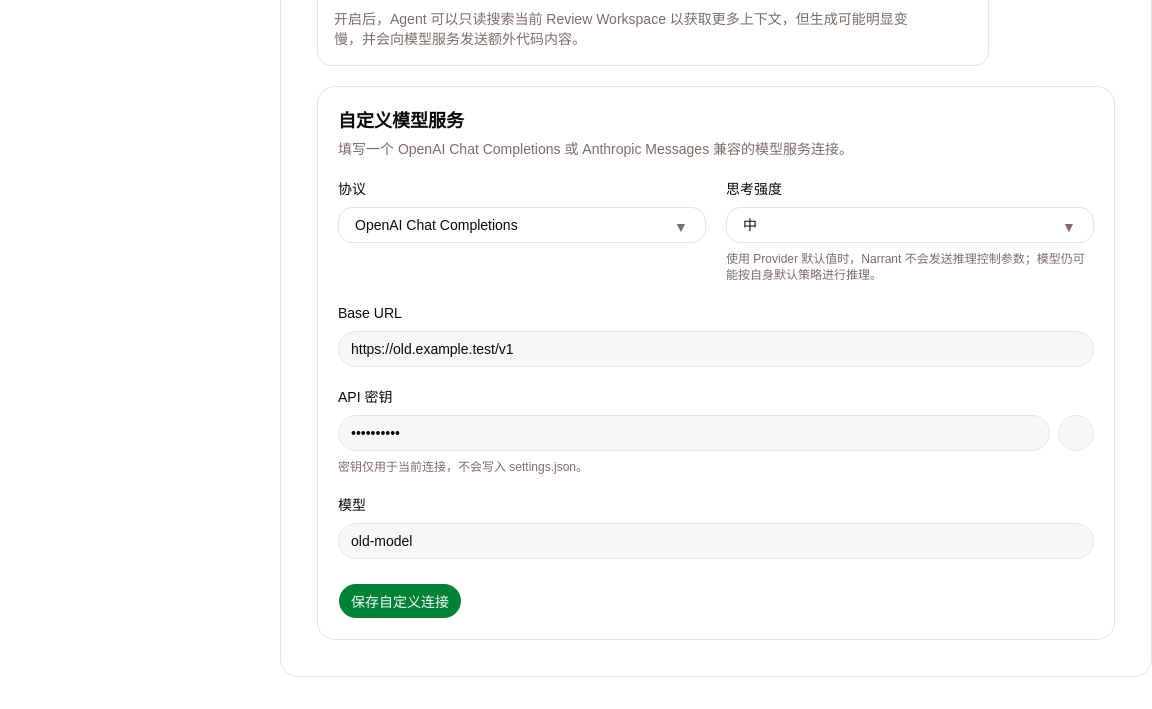
Settings application-shell UI › Custom 保存失败时保留表单输入并显示清晰错误
(page scrolled)
Expected: the form with test id "custom-provider-editor" is shown, [317, 86, 1115, 640]
Replace the text in the field labelled "Base URL" with "https://edited.example.test/v1": (716, 349) [338, 331, 1094, 367]
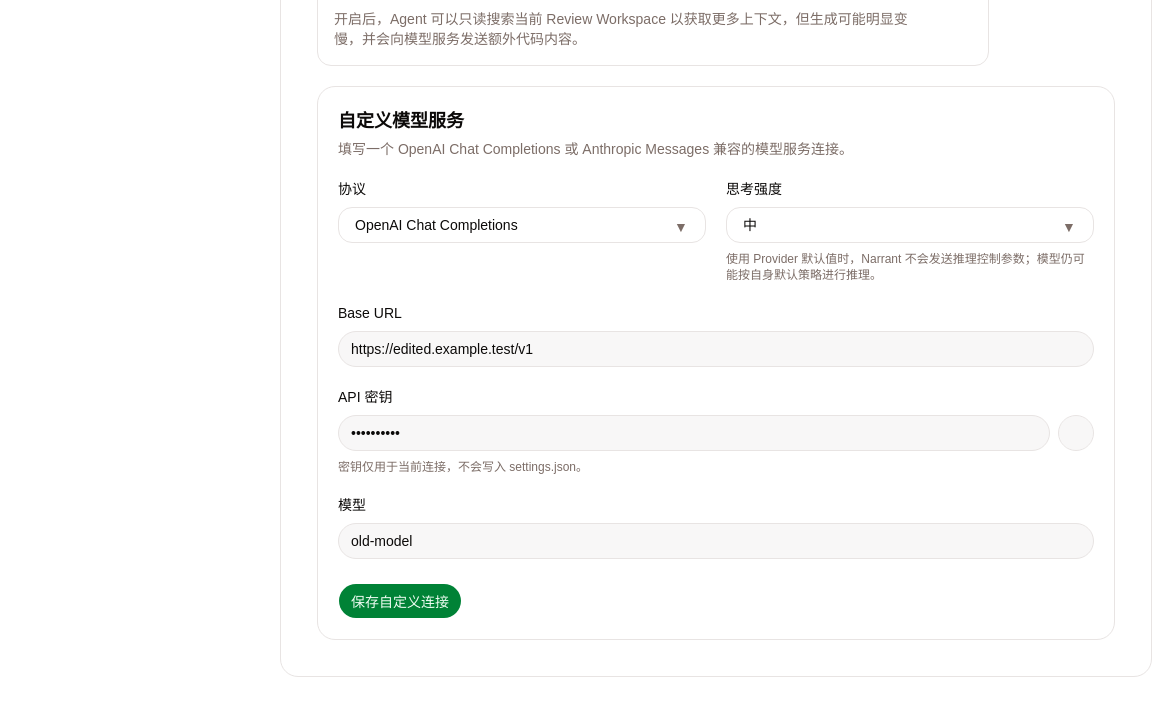
Replace the text in the field labelled "模型" with "edited-model": (716, 541) [338, 523, 1094, 559]
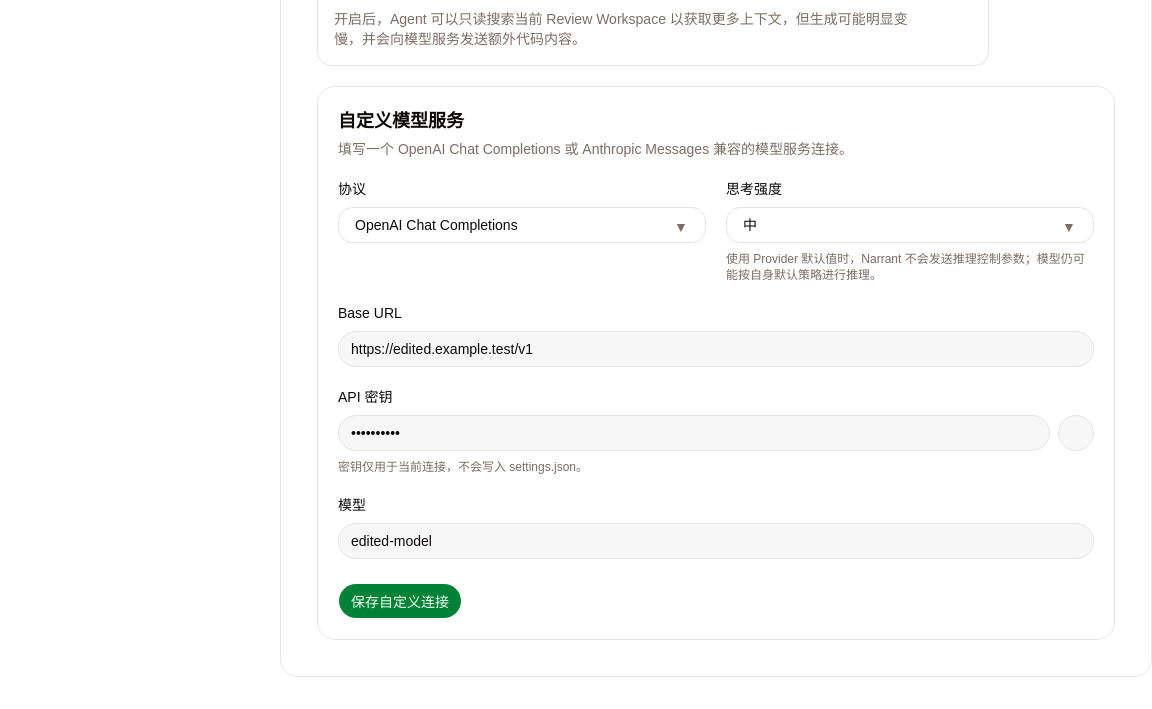
Click the button "保存自定义连接": (400, 601) [338, 583, 462, 619]
(page scrolled)
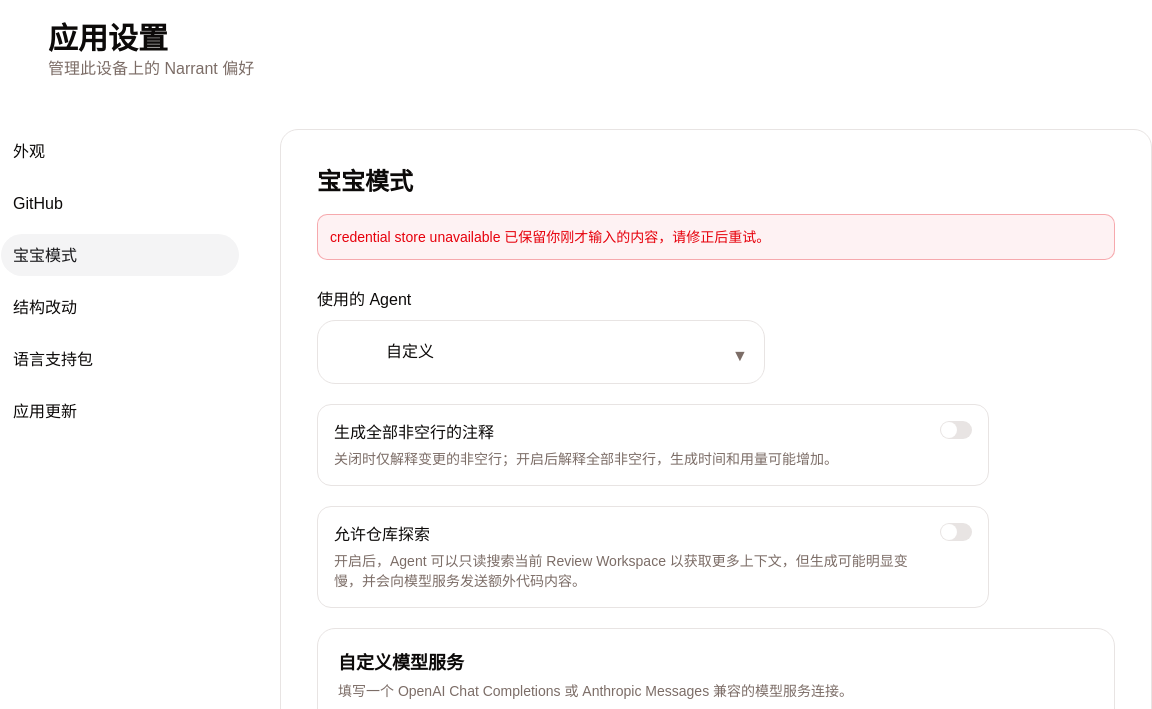
Expected: the message shows "credential store unavailable", [330, 229, 770, 245]
Expected: the message reads "credential store unavailable 已保留你刚才输入的内容，请修正后重试。", [330, 229, 770, 245]
